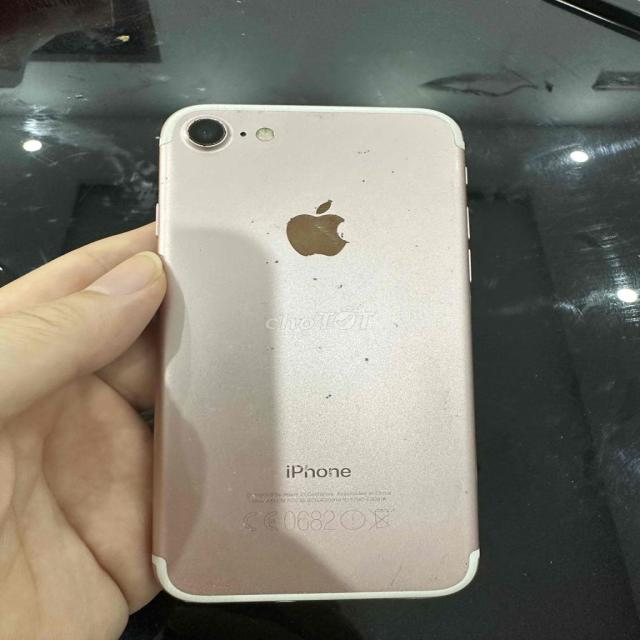gen_7_8: (138, 93, 492, 607)
